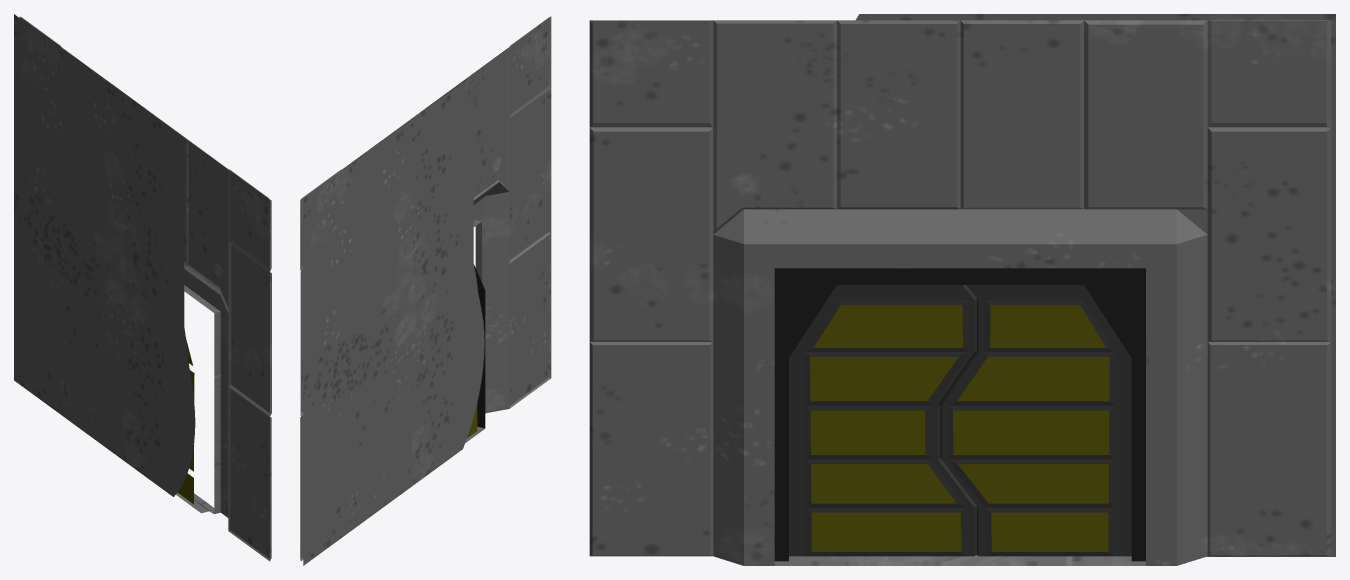
Rendered from FactoryDoor.fbx.
3 views of the same model, side by side, from view 1: azimuth 30°, elevation 25°; view 2: azimuth 150°, elevation 25°; view 3: azimuth 270°, elevation 25° (orthographic). The views are drawn at different scales.
Parts seen in each view (by area): view 1: MainScreen-BG; view 2: MainScreen-BG; view 3: MainScreen-BG.
Part boxes in pixels (box(x1,y1,x2,y2)): MainScreen-BG: box(14, 14, 271, 561); MainScreen-BG: box(300, 16, 551, 565); MainScreen-BG: box(589, 14, 1335, 565).
Size of the model in its own units: 23.5 by 476 by 597.
Materials: 3 (3 with a texture image).
